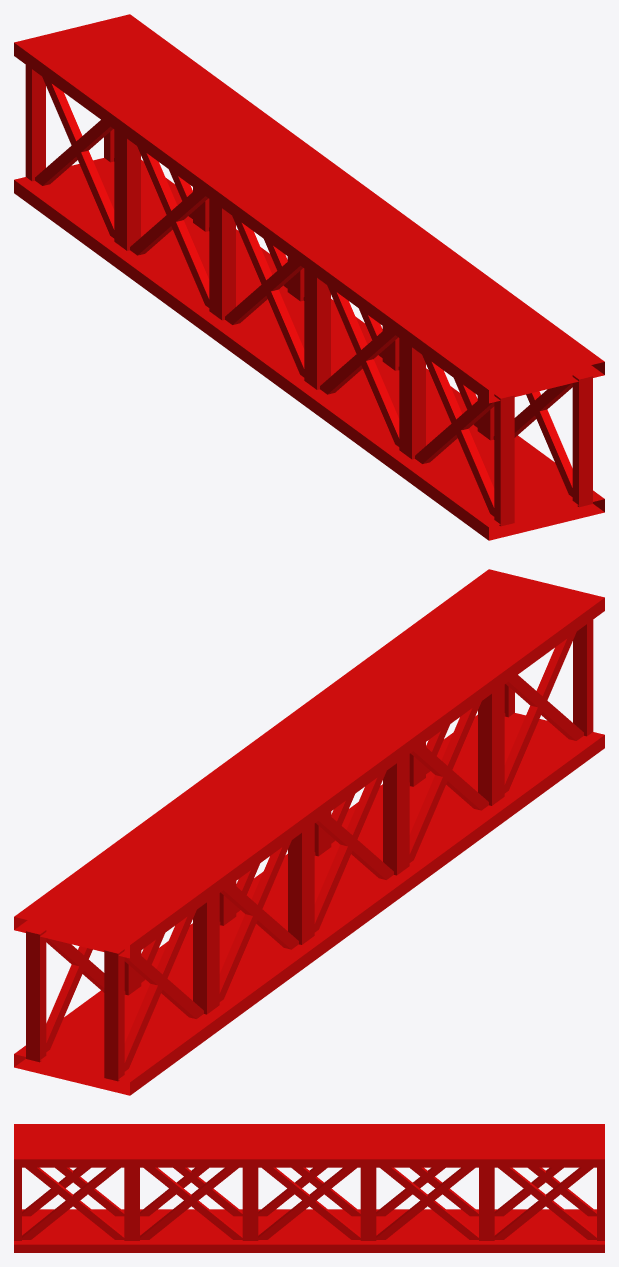
File: GirderA_SM (1).fbx
3 views of the same model, one above another, from view 1: azimuth 30°, elevation 25°; view 2: azimuth 150°, elevation 25°; view 3: azimuth 270°, elevation 25° (orthographic). The views are drawn at different scales.
Visible parts, largest first — view 1: pCube36; view 2: pCube36; view 3: pCube36.
Boxes of the visible parts, x1,y1,x2,y2 form: pCube36: (14,14,604,540); pCube36: (14,569,604,1095); pCube36: (14,1124,604,1252).
Bounding box in the file's own units: 2.82 × 3.5 × 20.
